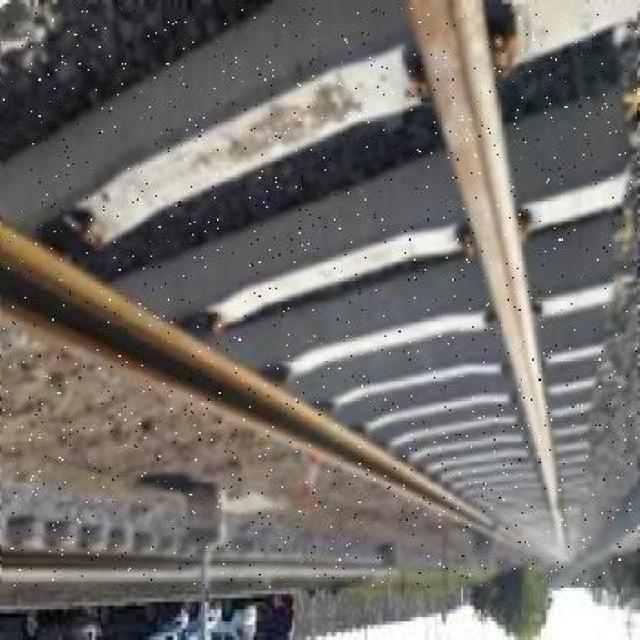rail: (3, 9, 638, 588)
